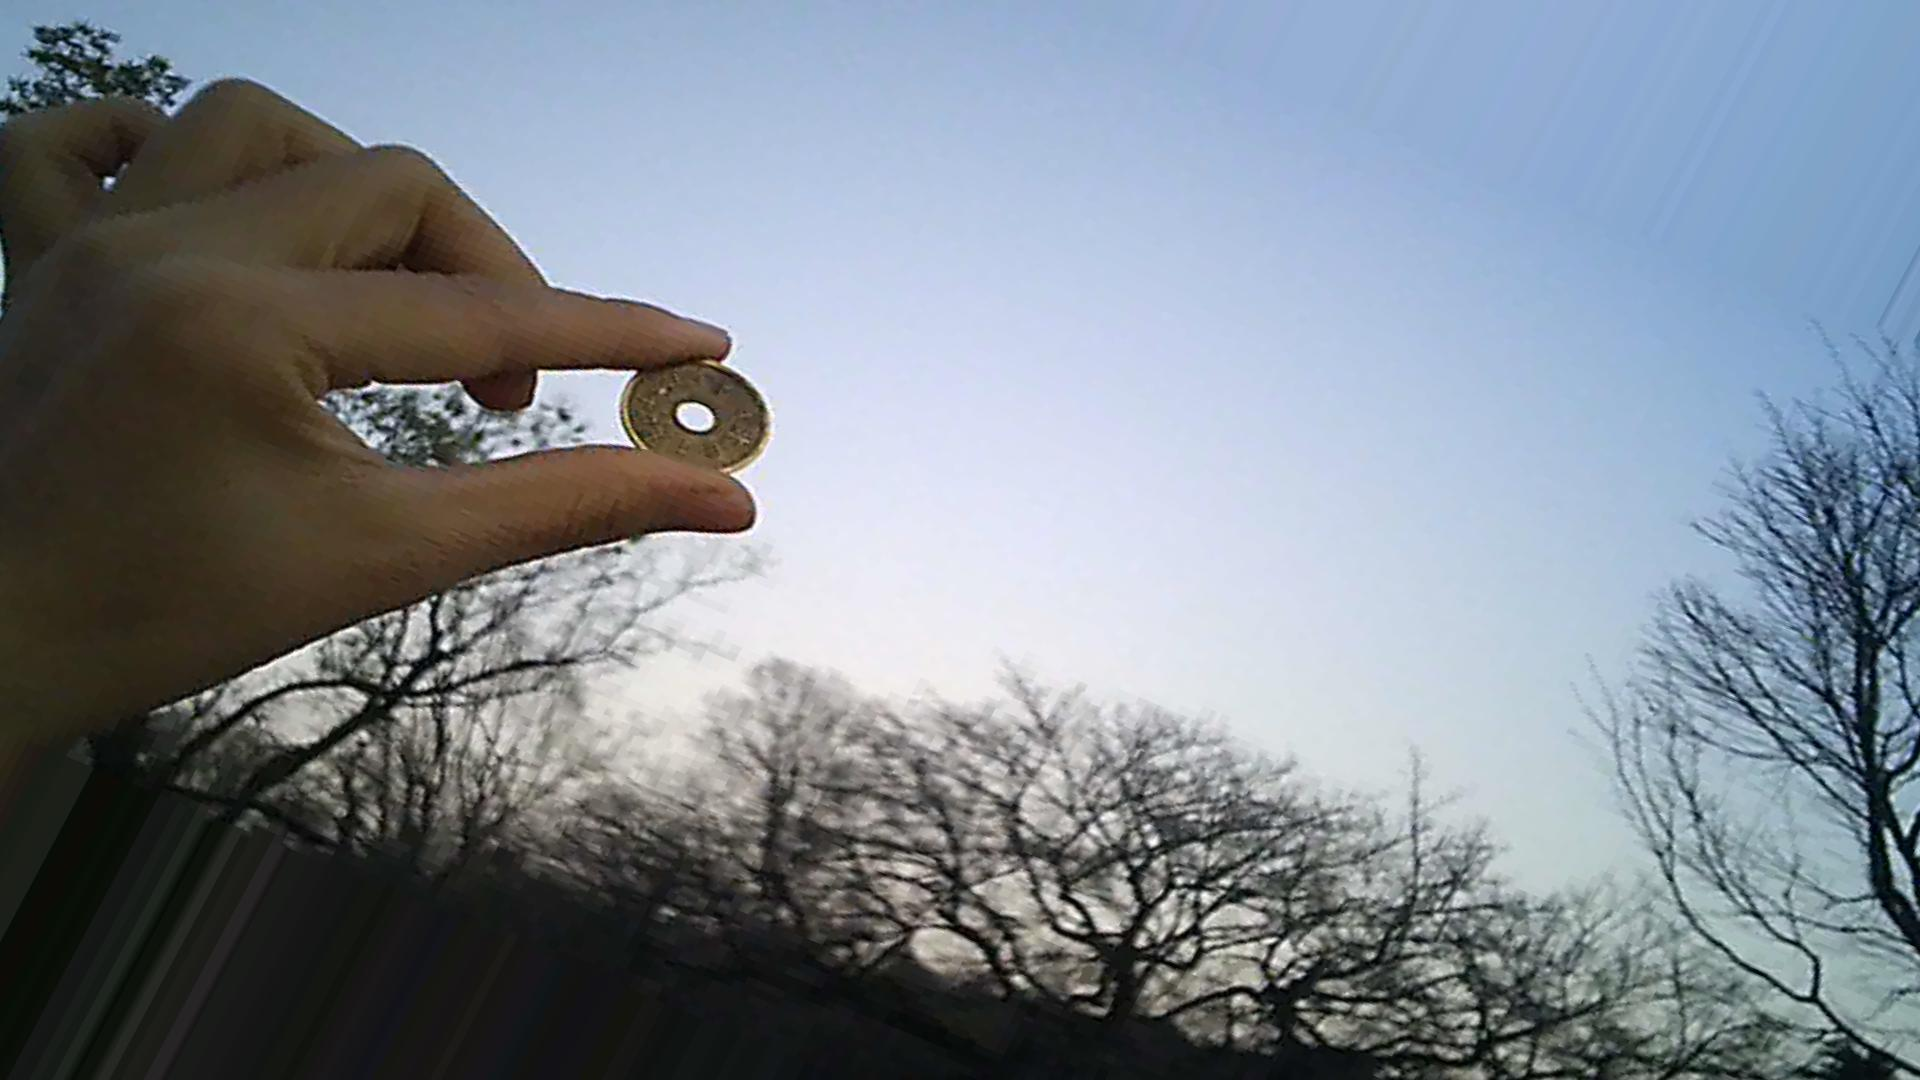5 Yen: (593, 334, 774, 516)
